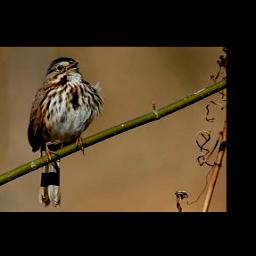Sparrow: (27, 56, 105, 208)
